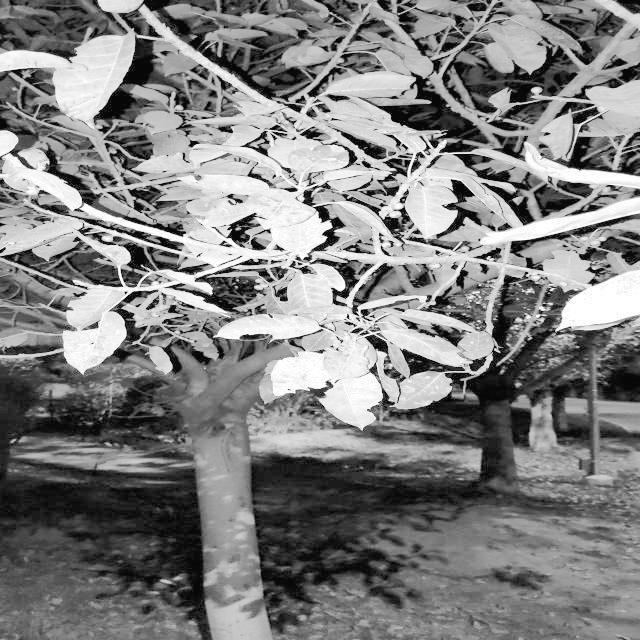Tree: (0, 93, 472, 640)
